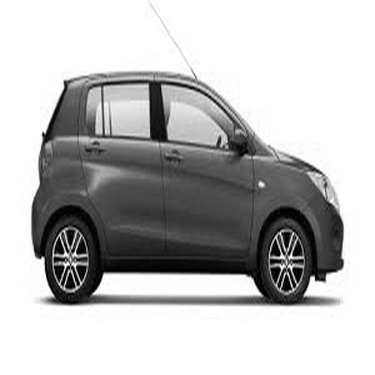car: (10, 44, 349, 305)
